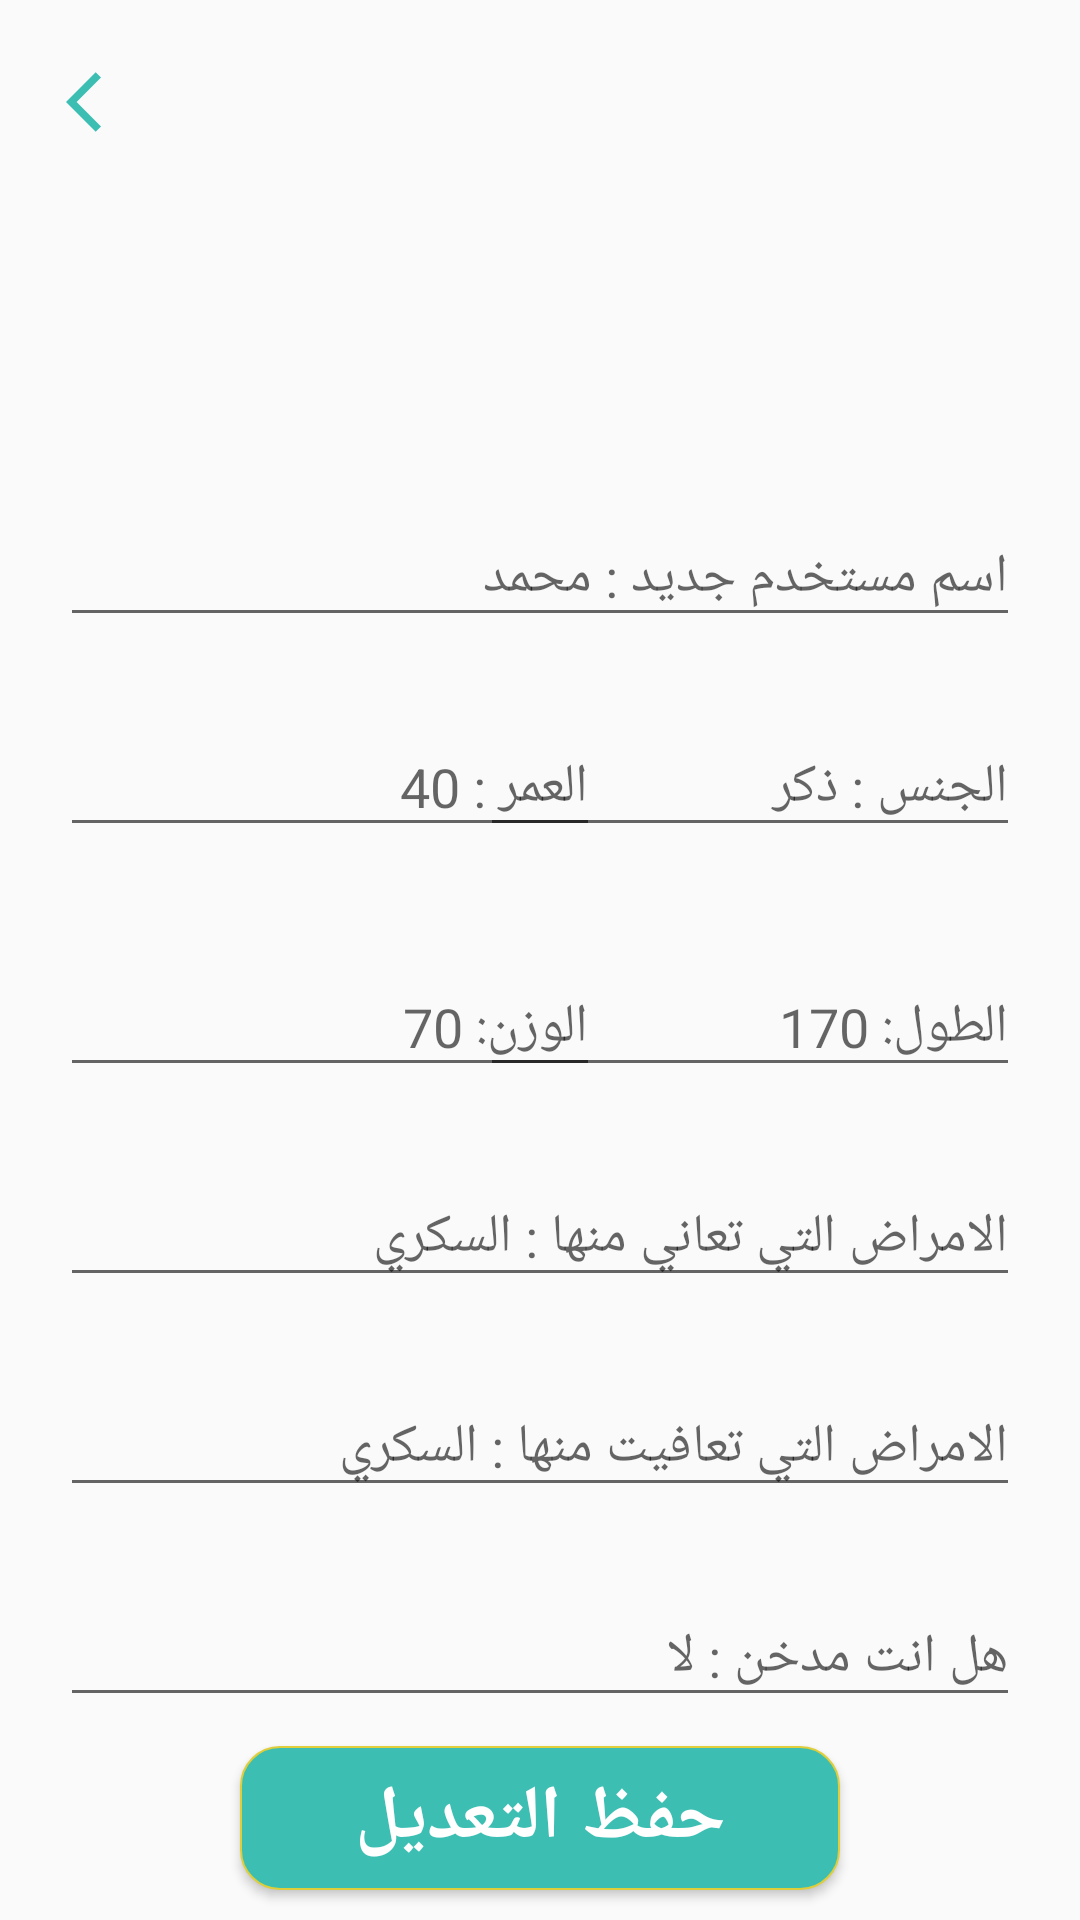

Where icons sit on this 1080×1920 app screen, as [x1,y1,x2,y2]:
arrow: [66,72,101,132]
